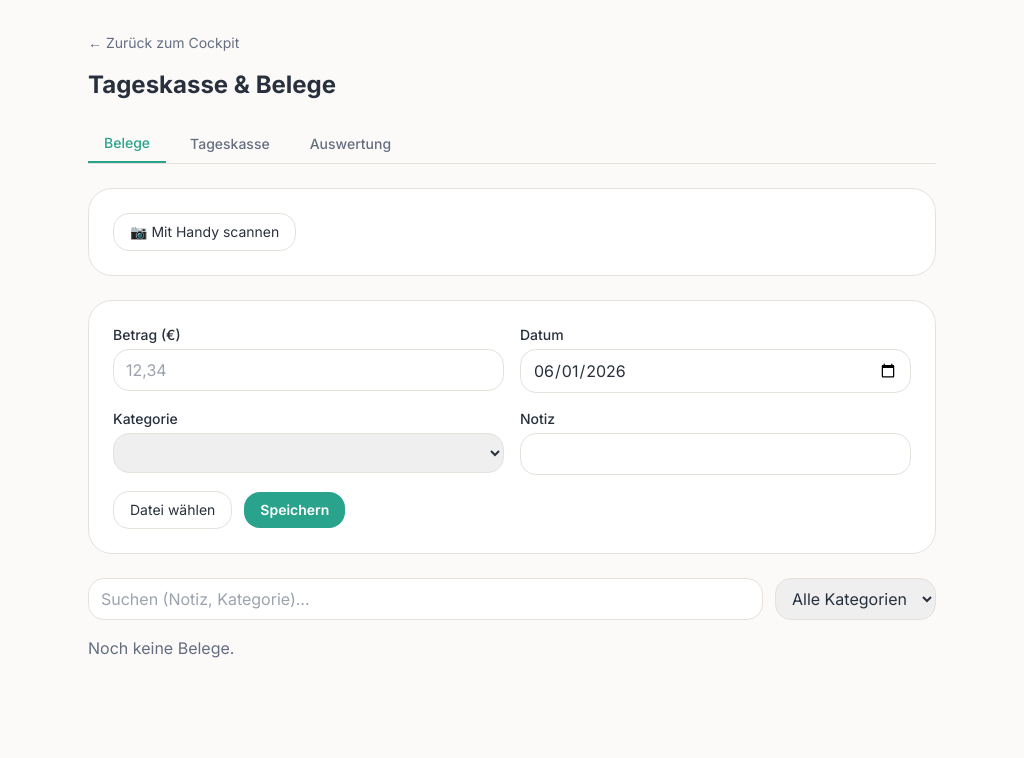
TillModule › switches to the Tageskasse tab and shows the cash counter
Click the tab "Tageskasse": (230, 144) [174, 125, 286, 163]
(page scrolled)
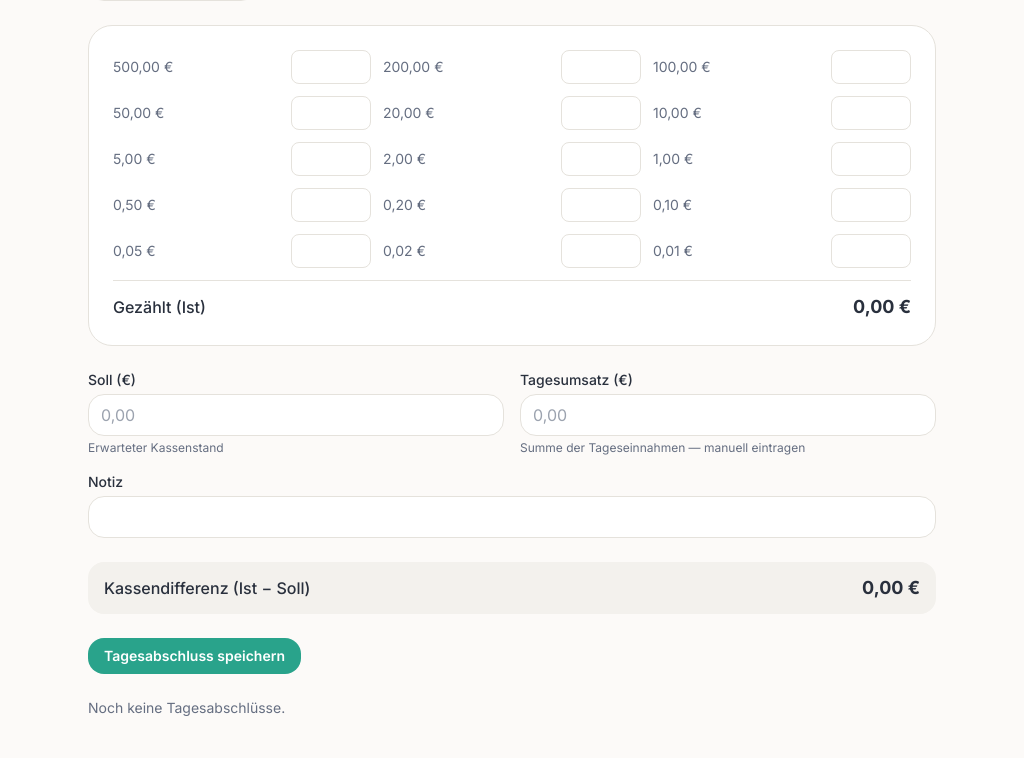
Check: the text "Gezählt (Ist)" is shown, box [113, 295, 206, 319]
Check: the button "Tagesabschluss speichern" is shown, box [88, 638, 301, 674]
